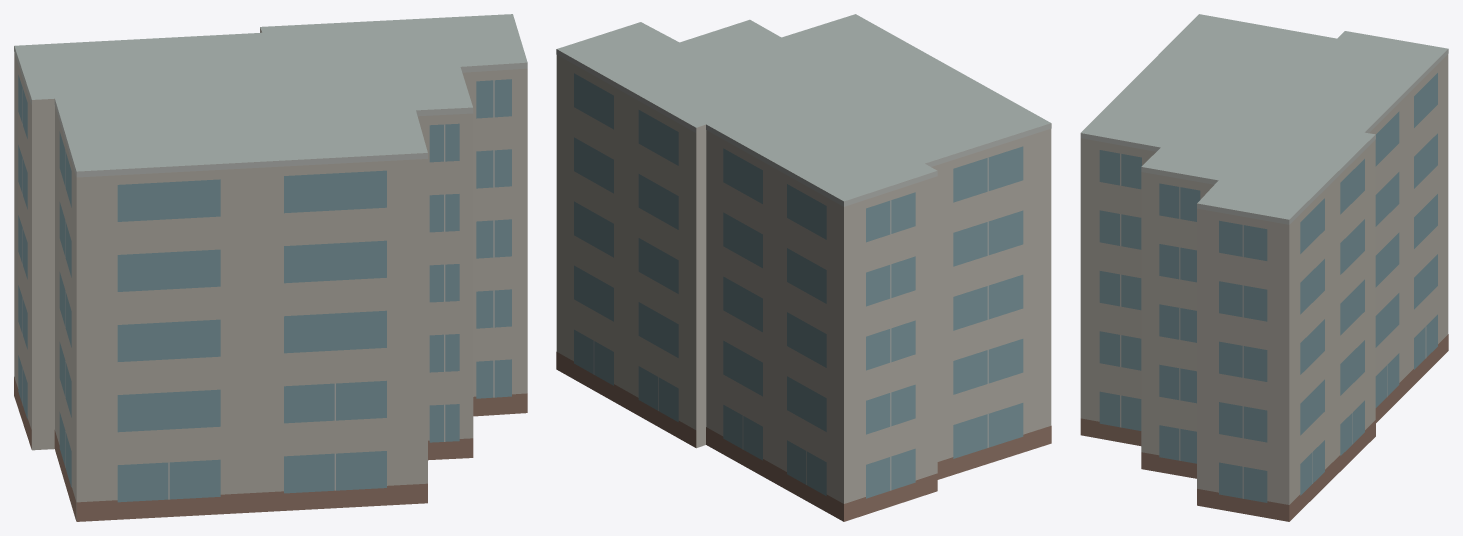
File: survey-upis-32587974.glb
3 renders of one model, left to right at view 1: azimuth 30°, elevation 25°; view 2: azimuth 150°, elevation 25°; view 3: azimuth 270°, elevation 25°, orthographic. The views are drawn at different scales.
Parts seen in each view (by area): view 1: survey-upis-32587974.tmp; view 2: survey-upis-32587974.tmp; view 3: survey-upis-32587974.tmp.
Boxes of the visible parts, box(x1,y1,x2,y2) form: survey-upis-32587974.tmp: box(14, 14, 527, 521); survey-upis-32587974.tmp: box(556, 14, 1051, 521); survey-upis-32587974.tmp: box(1080, 14, 1448, 521).
Bounding box in the file's own units: 20.96 × 14.35 × 15.84.
